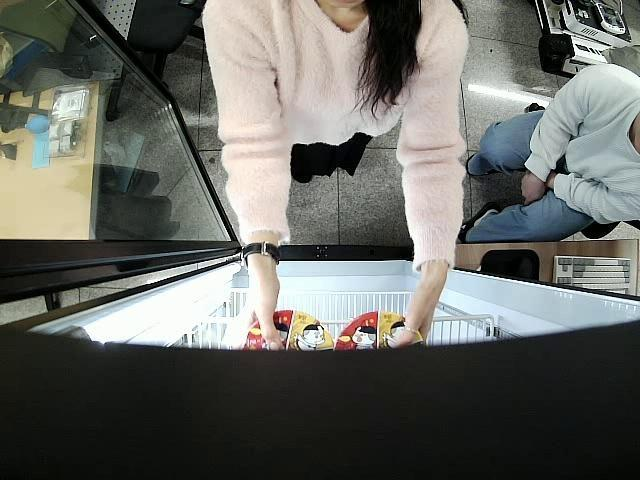07_buldak_L: (242, 310, 333, 351), (340, 312, 422, 350)
